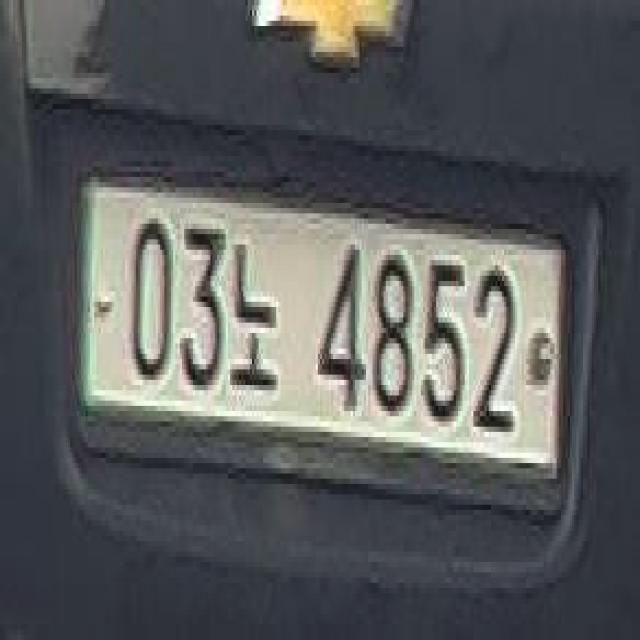illegal_plate: (81, 170, 569, 524)
